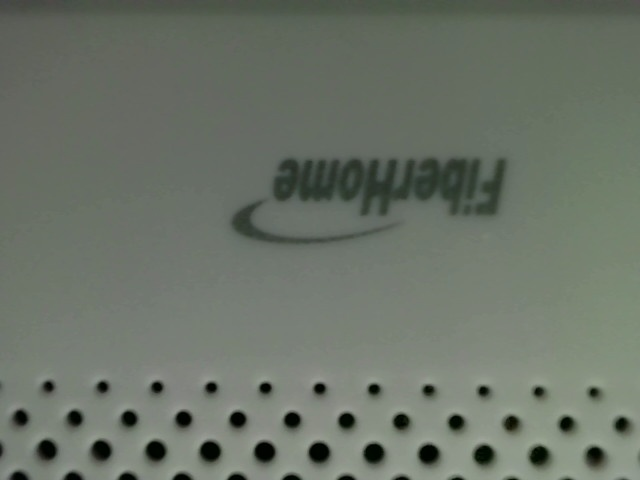AI_FiberHome: (221, 147, 524, 250)
